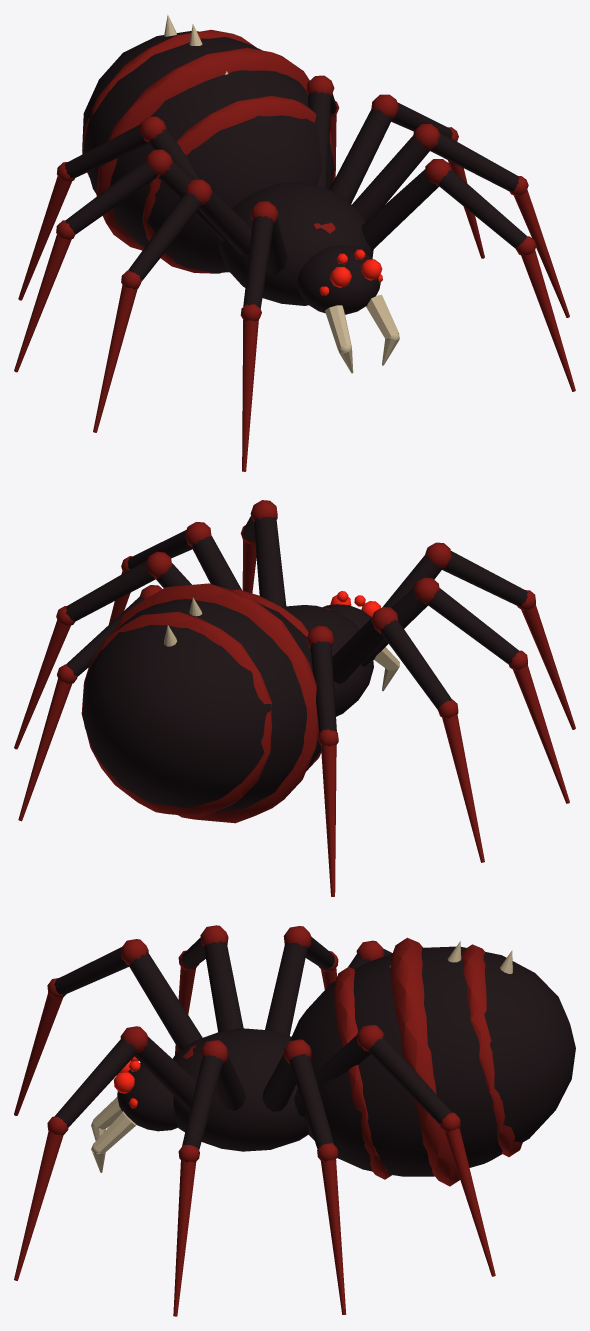
File: Crawler.obj
3 renders of one model, top to bottom at view 1: azimuth 30°, elevation 25°; view 2: azimuth 150°, elevation 25°; view 3: azimuth 270°, elevation 25°, orthographic. The views are drawn at different scales.
Parts seen in each view (by area): view 1: Crawler; view 2: Crawler; view 3: Crawler.
Part boxes in pixels (x1=…): Crawler: x1=14, y1=14, x2=575, y2=471; Crawler: x1=14, y1=500, x2=575, y2=896; Crawler: x1=14, y1=925, x2=575, y2=1316.
Size of the model in its own units: 1.1 by 0.5499 by 1.09.
